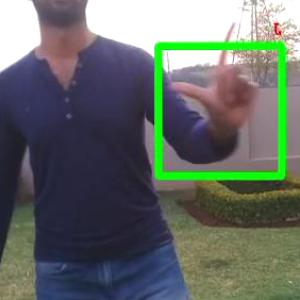land_hand: (167, 11, 264, 134)
